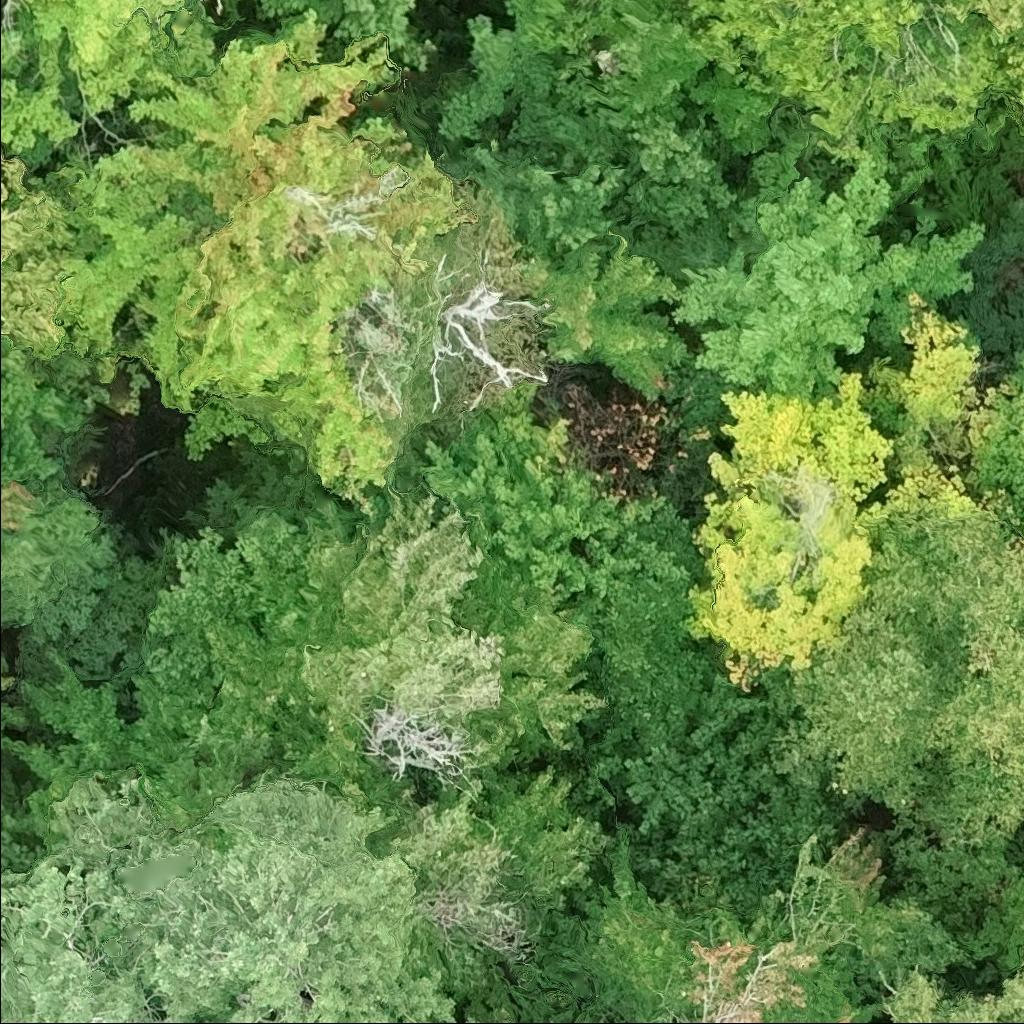crown: (57, 10, 474, 485), (80, 765, 496, 1023), (670, 148, 993, 399), (541, 821, 906, 1023), (680, 371, 897, 695), (683, 0, 1011, 172), (864, 512, 1023, 853), (417, 408, 666, 598), (759, 598, 946, 829), (0, 764, 164, 1023), (449, 544, 613, 769), (0, 0, 221, 164), (3, 646, 181, 842), (309, 485, 485, 646), (539, 234, 693, 401), (480, 763, 617, 919), (0, 145, 76, 358), (251, 0, 445, 74), (574, 498, 705, 601), (627, 110, 738, 231), (0, 349, 90, 488), (520, 150, 631, 256), (432, 12, 521, 143), (450, 126, 557, 223), (881, 960, 1005, 1023), (681, 670, 767, 750), (996, 873, 1023, 1023), (322, 477, 384, 522), (0, 656, 25, 758), (0, 480, 41, 533), (461, 1008, 524, 1023), (0, 555, 4, 578)
